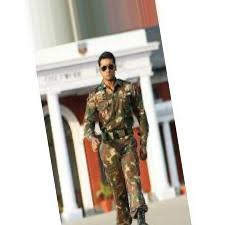uniform: (85, 76, 158, 215)
